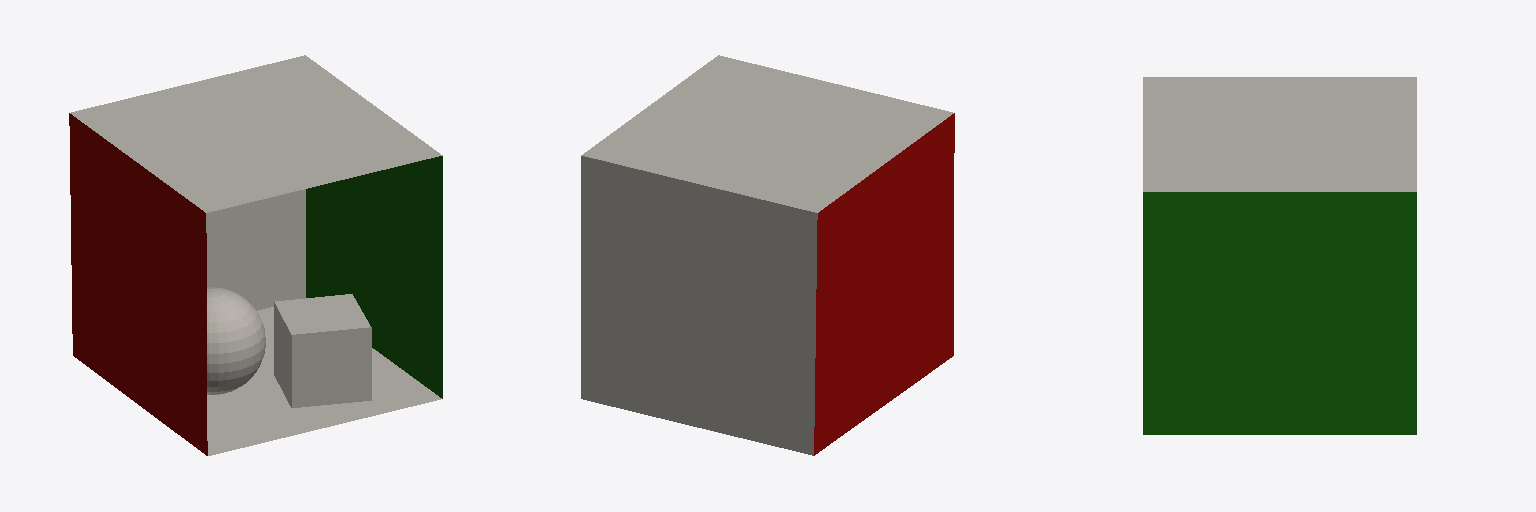
The model's file is cornell_box_caustic_sphere.obj.
3 views of the same model, side by side, from view 1: azimuth 30°, elevation 25°; view 2: azimuth 150°, elevation 25°; view 3: azimuth 270°, elevation 25° (orthographic).
Visible parts, largest first — view 1: CornellBox-Original, Sphere; view 2: CornellBox-Original; view 3: CornellBox-Original.
Boxes of the visible parts, x1=… form: CornellBox-Original: x1=69, y1=55, x2=442, y2=455; Sphere: x1=207, y1=287, x2=265, y2=394; CornellBox-Original: x1=581, y1=55, x2=954, y2=455; CornellBox-Original: x1=1143, y1=77, x2=1416, y2=434.
Size of the model in its own units: 2.02 by 1.99 by 2.03.